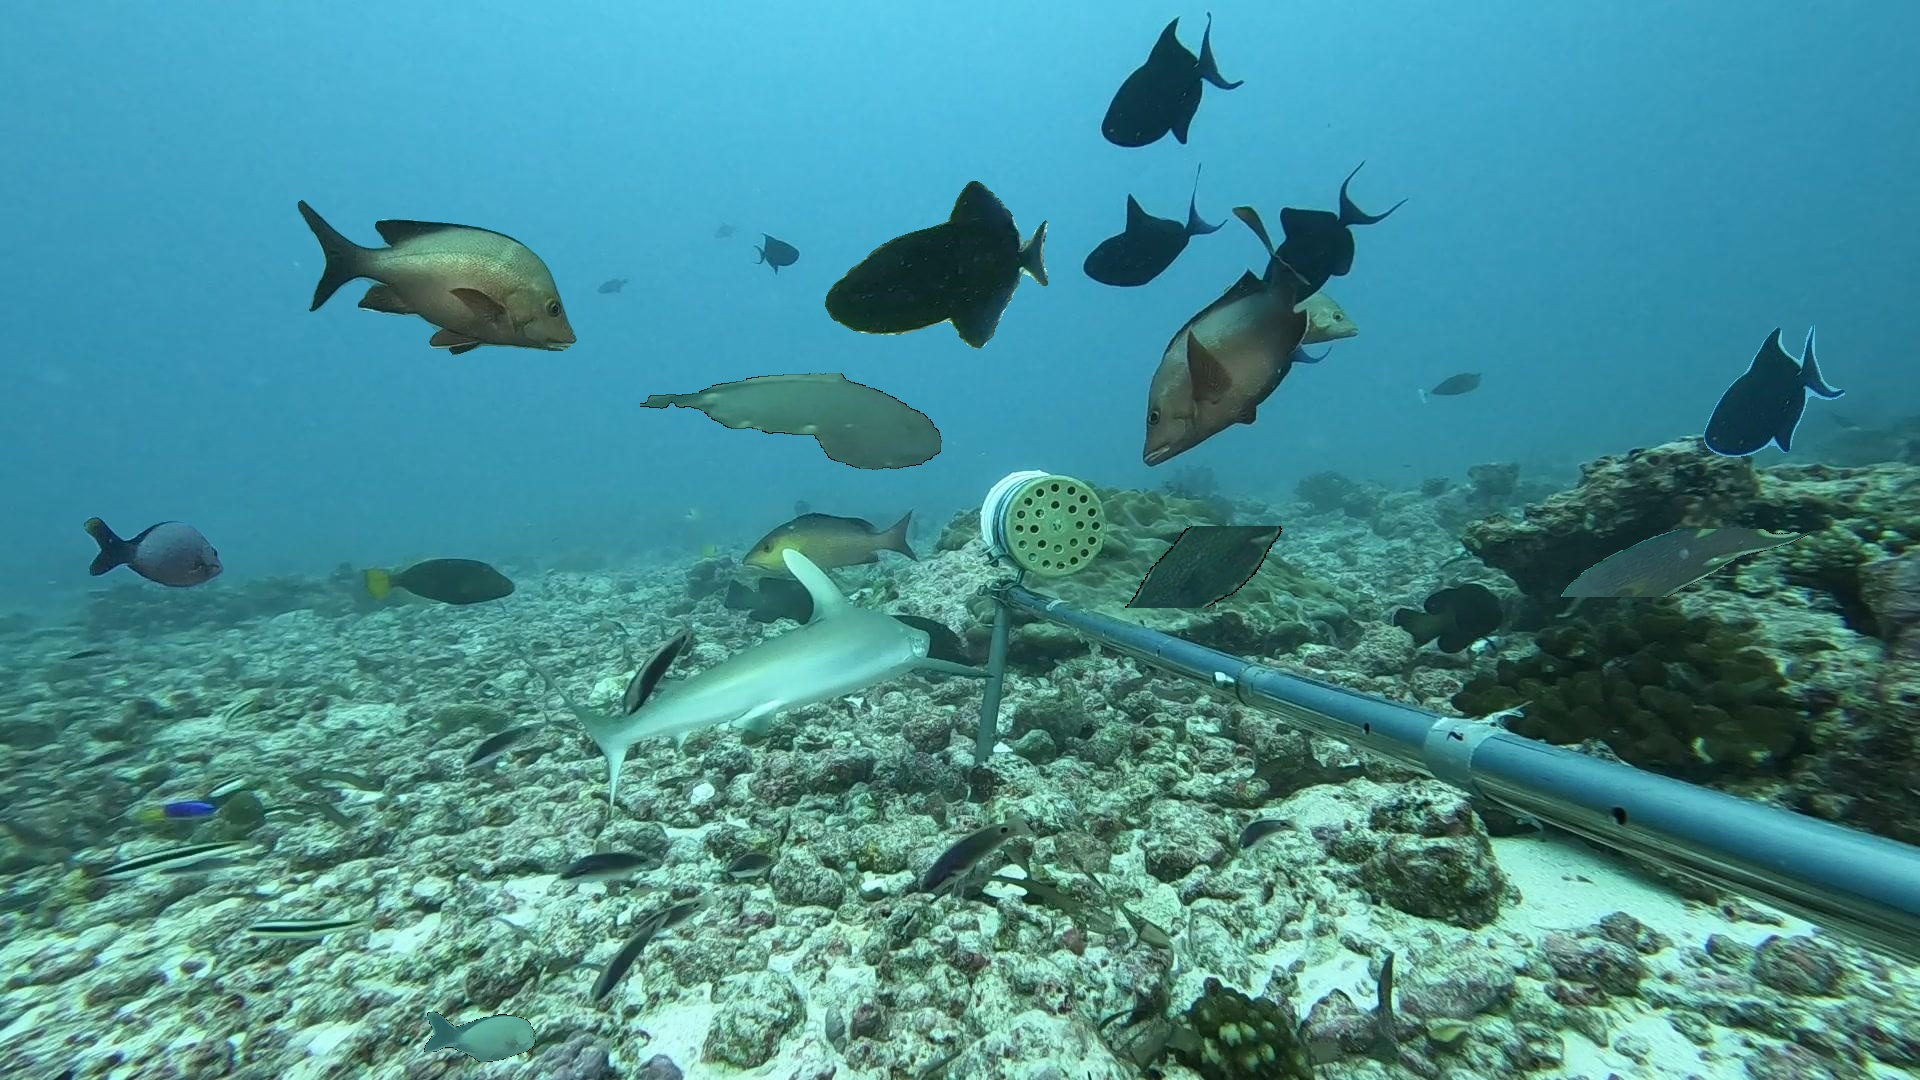fish: (520, 546, 997, 811), (1113, 157, 1403, 483), (297, 200, 578, 355), (825, 181, 1048, 349), (1233, 158, 1408, 367), (640, 373, 942, 469), (1095, 7, 1251, 164), (1077, 174, 1228, 306), (738, 489, 931, 589), (1535, 529, 1811, 597), (1704, 324, 1845, 458), (1100, 526, 1288, 608), (828, 530, 976, 634), (353, 537, 525, 624), (90, 833, 257, 898), (83, 516, 224, 589), (914, 816, 1026, 902), (584, 906, 674, 1005), (611, 616, 699, 715), (1390, 584, 1505, 659), (425, 1011, 535, 1062), (547, 847, 666, 890), (723, 570, 808, 626), (1412, 356, 1491, 417), (459, 719, 534, 778), (240, 914, 376, 940), (645, 890, 720, 932), (746, 231, 815, 277), (1236, 815, 1303, 857), (137, 799, 218, 825), (721, 853, 779, 882), (220, 699, 257, 732), (206, 774, 251, 800), (591, 276, 630, 301)
